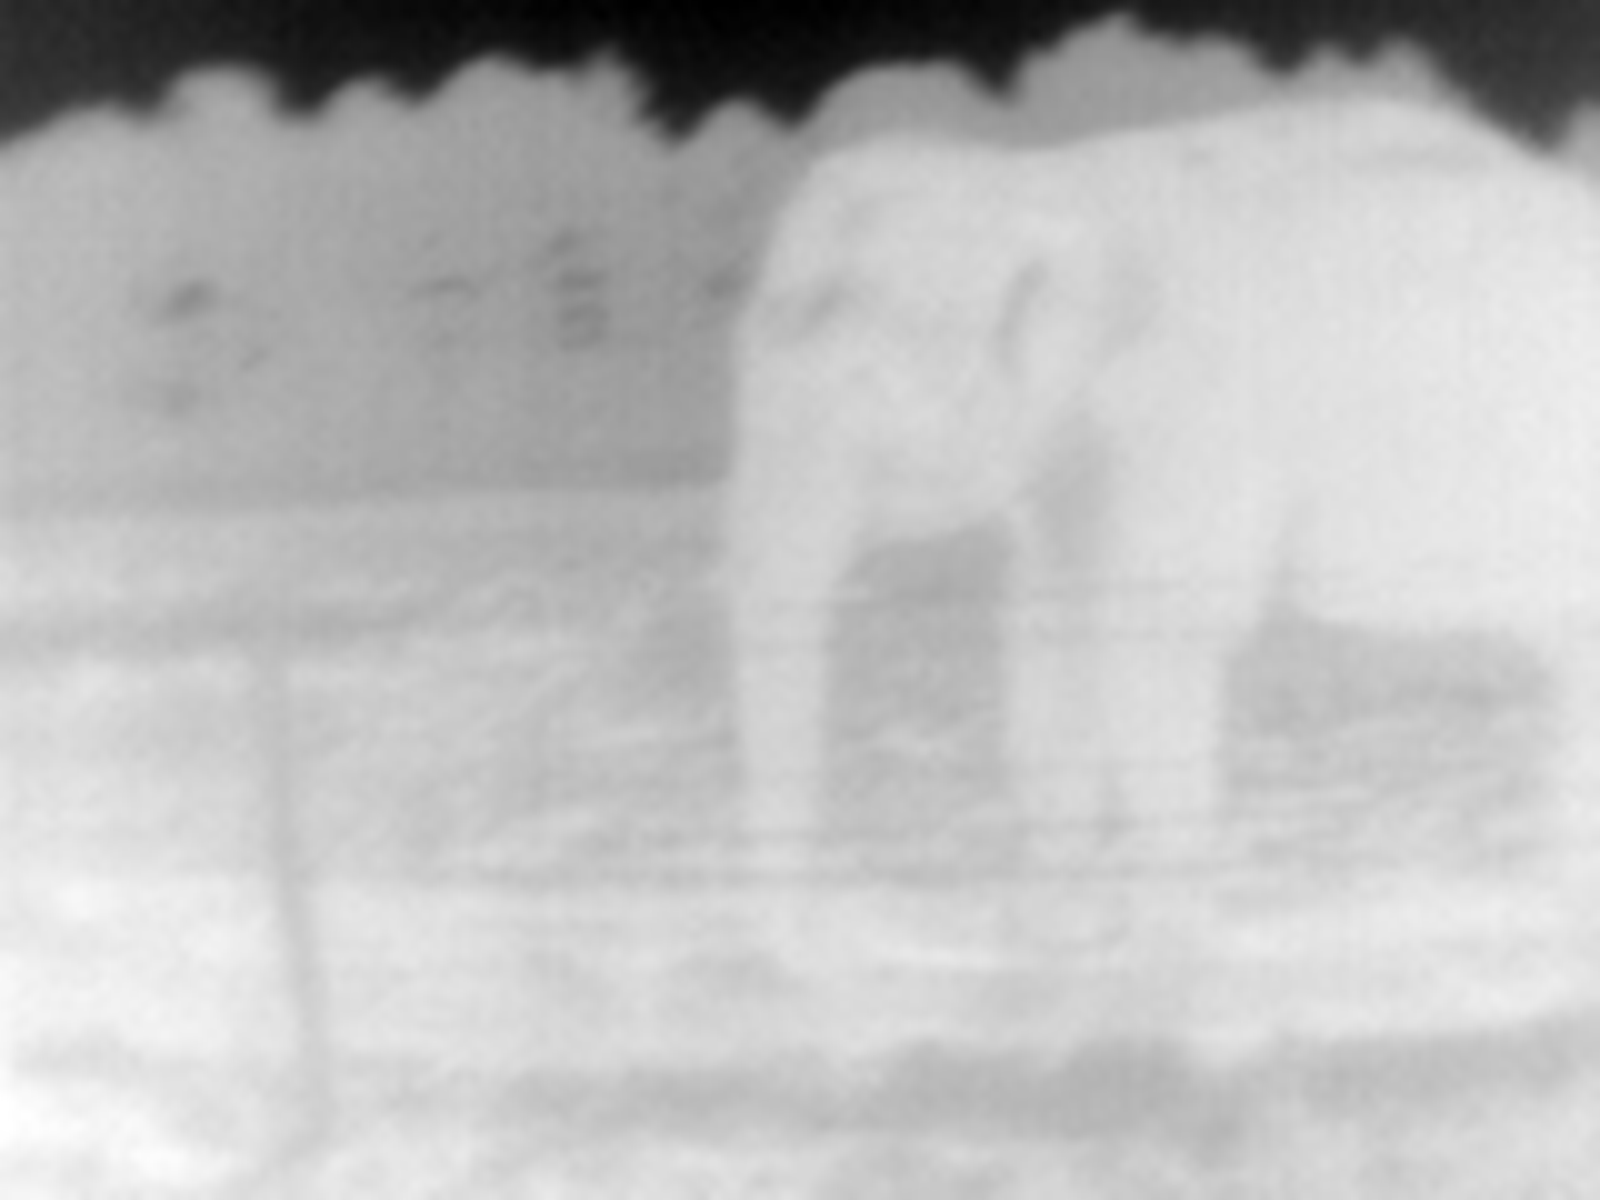elephant: (734, 116, 1600, 1016)
